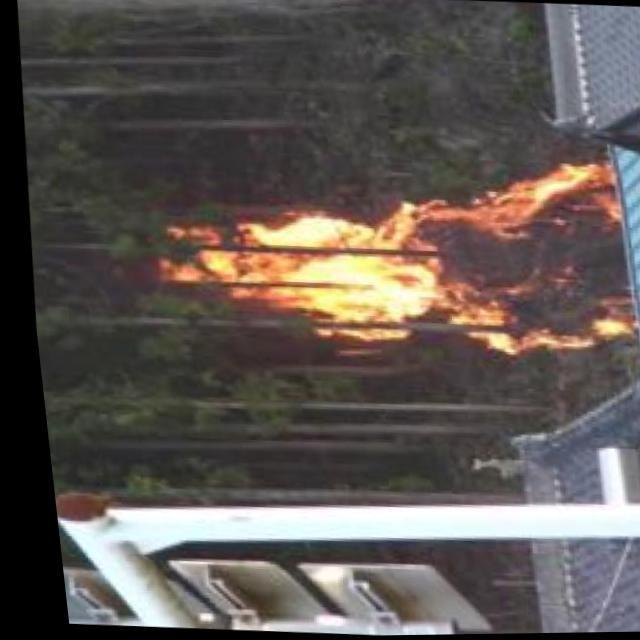fire: (156, 147, 630, 353)
